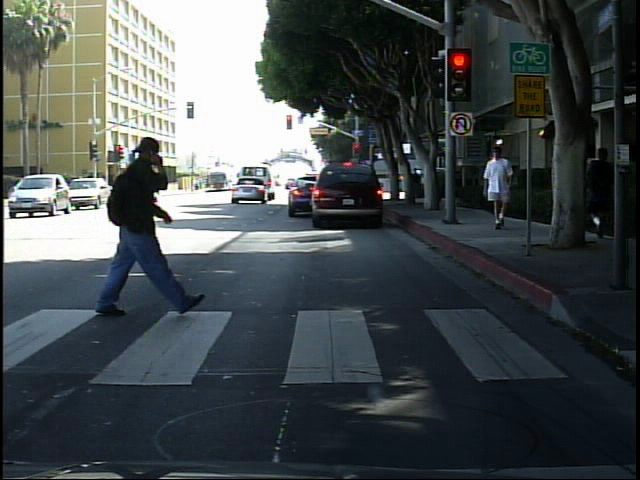person: (81, 125, 193, 339), (480, 145, 519, 238), (586, 137, 619, 246)
